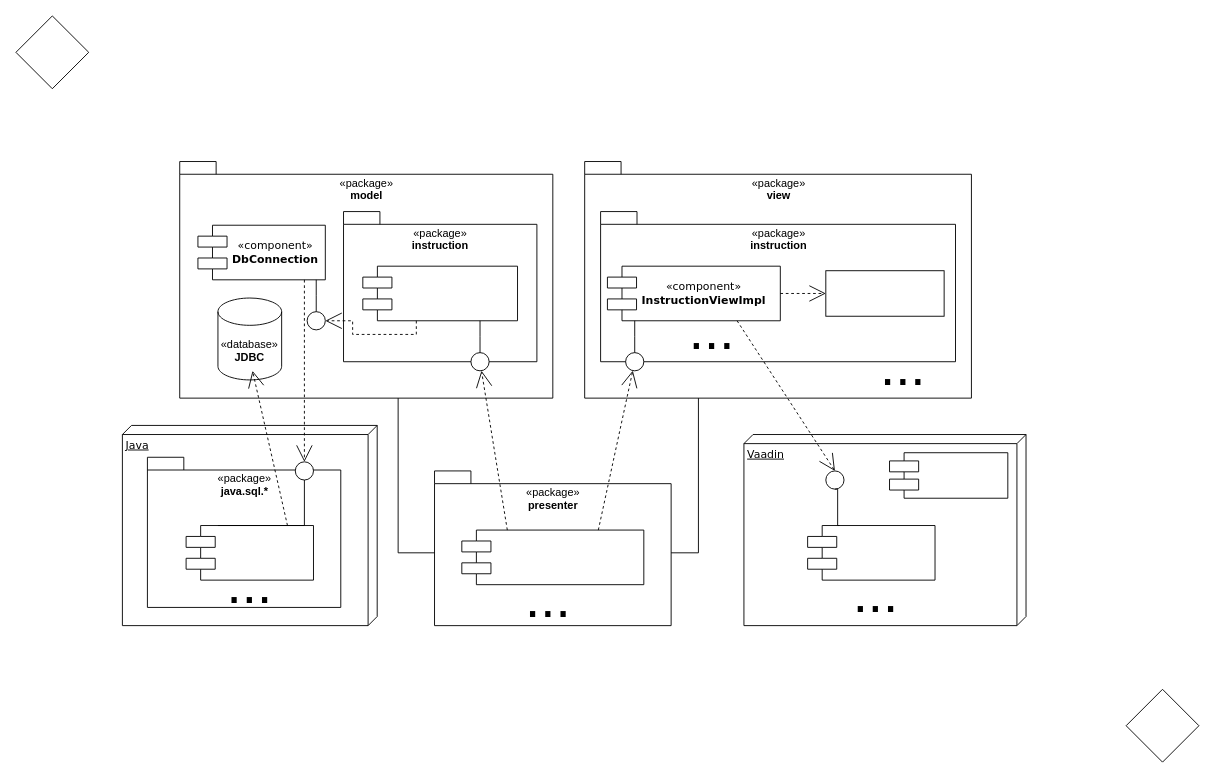
The diagram is 1215 pixels wide and 778 high, and some of its shapes have lost their labels. The shapes that lost their labels are listed below. From the top down, each one's centre as x and y in pixels, then its label:
At (440,293): "«component» InstructionModel".
At (884,293): "«interface» InstructionView".
At (948,475): "«framework» Vaadin".
At (249,552): "«component» Connection".
At (552,557): "«component» InstructionPresenter".
At (871,552): "«component» Button".
